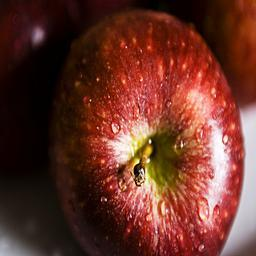apple: (50, 10, 243, 251)
